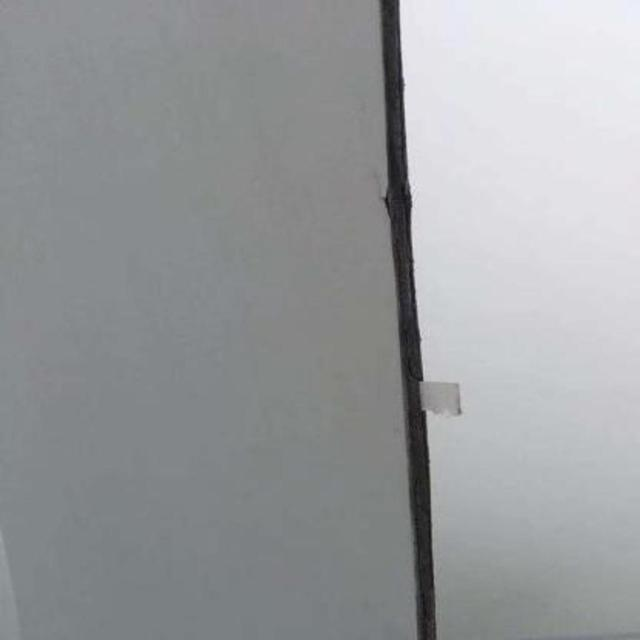crack: (377, 11, 438, 638)
